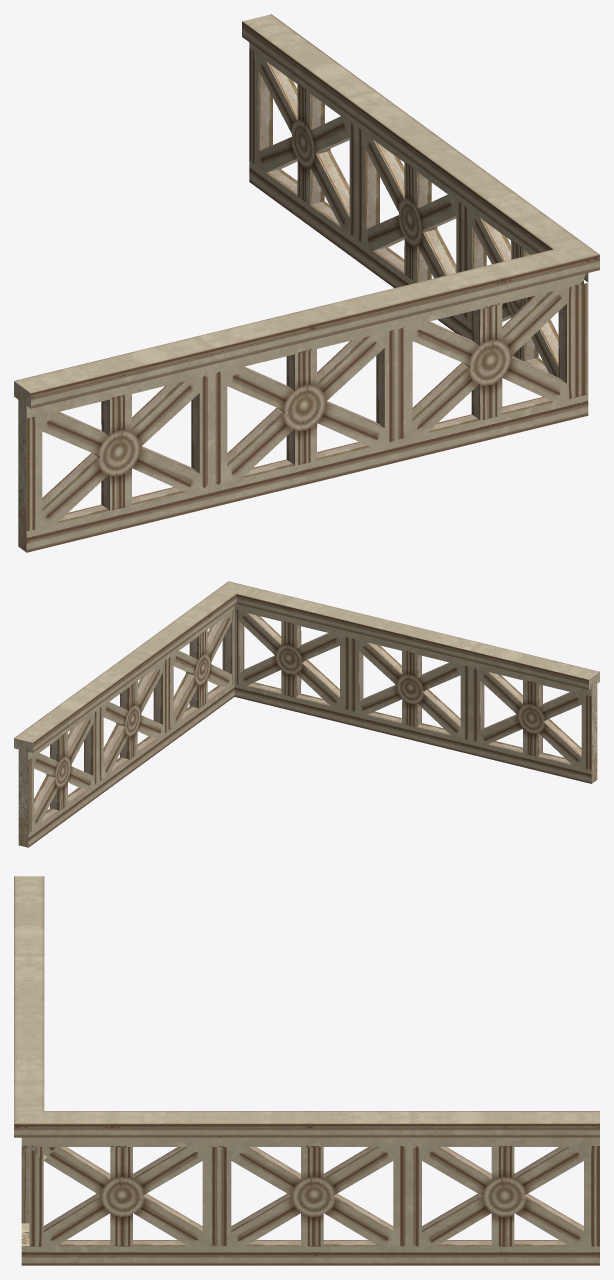
File: svspartarail8.dae
3 views of the same model, one above another, from view 1: azimuth 30°, elevation 25°; view 2: azimuth 150°, elevation 25°; view 3: azimuth 270°, elevation 25° (orthographic). The views are drawn at different scales.
Visible parts, largest first — view 1: unnamed_object6_copy57-0; view 2: unnamed_object6_copy57-0; view 3: unnamed_object6_copy57-0.
Boxes of the visible parts, left/top/right/bottom form: unnamed_object6_copy57-0: left=14, top=14, right=599, bottom=552; unnamed_object6_copy57-0: left=14, top=581, right=599, bottom=847; unnamed_object6_copy57-0: left=14, top=876, right=599, bottom=1265.
Size of the model in its own units: 385 by 105 by 385.
